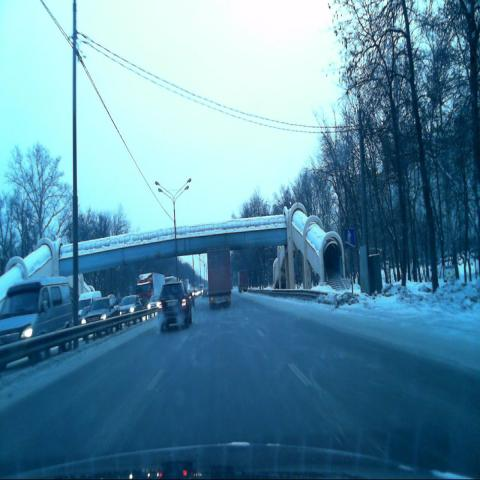6_7: (344, 228, 356, 249)
